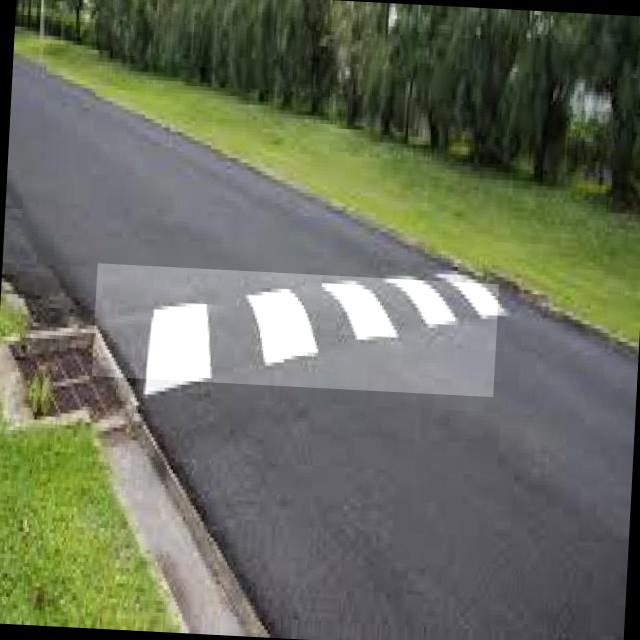bump: (92, 263, 499, 397)
